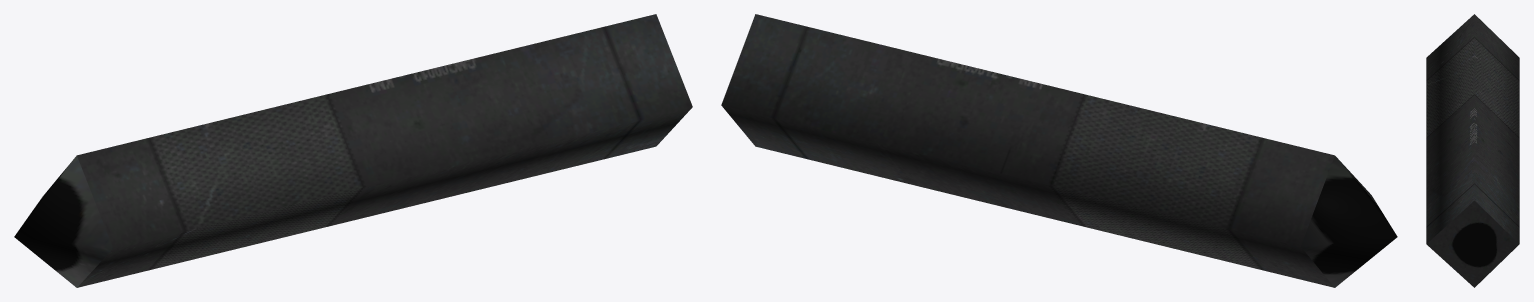
The model's file is t6_attach_smg_silencer2_world_LOD1.obj.
3 views of the same model, side by side, from view 1: azimuth 30°, elevation 25°; view 2: azimuth 150°, elevation 25°; view 3: azimuth 270°, elevation 25° (orthographic). The views are drawn at different scales.
Visible parts, largest first — view 1: mtl_t6_attach_smg_silencer1; view 2: mtl_t6_attach_smg_silencer1; view 3: mtl_t6_attach_smg_silencer1.
Boxes of the visible parts, box(x1,y1,x2,y2) form: mtl_t6_attach_smg_silencer1: box(14, 14, 692, 287); mtl_t6_attach_smg_silencer1: box(721, 14, 1397, 287); mtl_t6_attach_smg_silencer1: box(1426, 14, 1519, 287).
Bounding box in the file's own units: 21.47 × 4.24 × 4.1.
